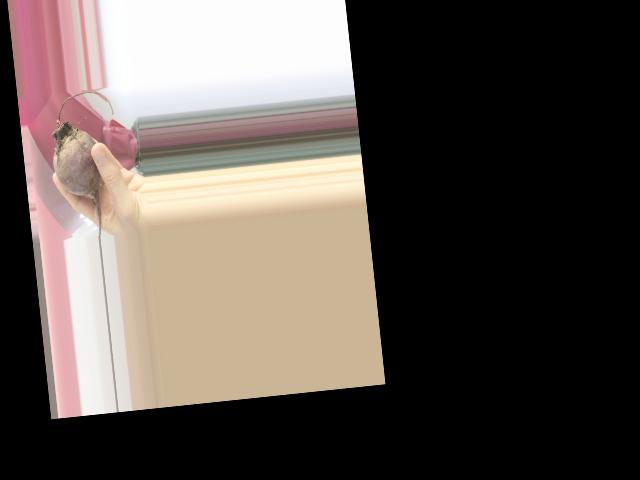beet: (46, 88, 126, 240)
